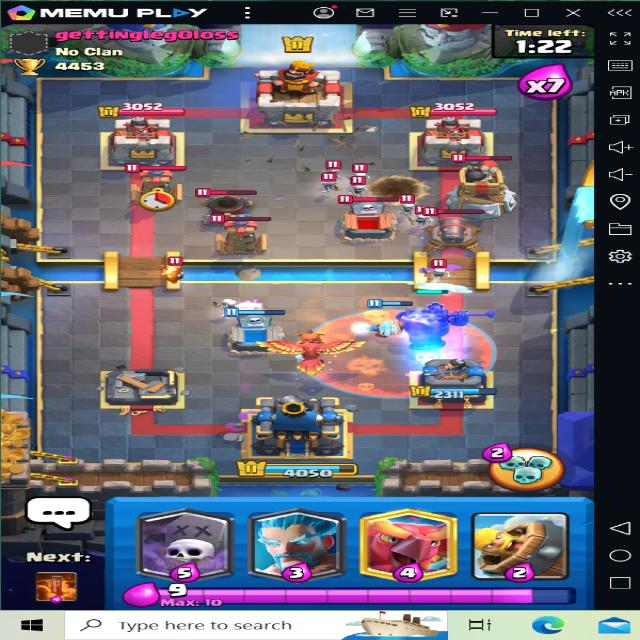bomb-tower: (449, 153, 522, 214)
cannon: (416, 205, 497, 253)
fire-spirit: (153, 262, 188, 288)
mortar: (192, 187, 266, 222)
skeleton: (411, 205, 436, 231), (351, 158, 378, 180), (401, 195, 430, 215), (318, 171, 344, 192), (430, 262, 456, 282), (351, 181, 371, 202), (326, 156, 341, 178)
tesla: (199, 212, 279, 260), (123, 156, 187, 208)
tombstone: (333, 191, 398, 247)
